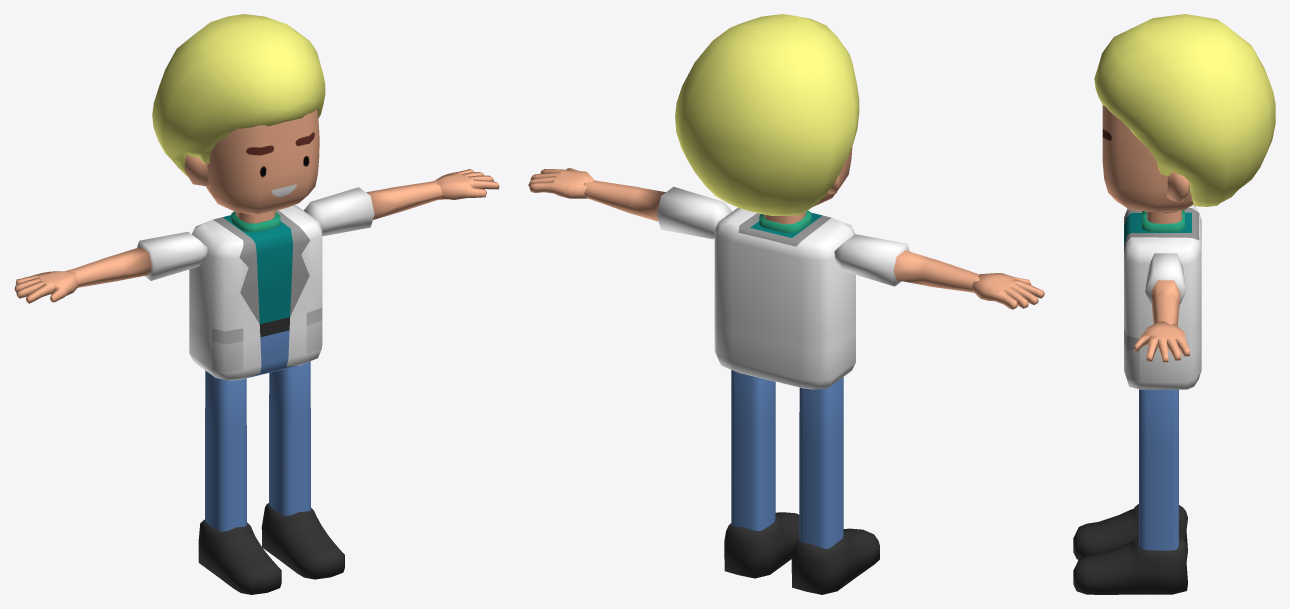
The model's file is NPC_White02_BlondeHair01.gltf.
The picture shows the model from 3 angles, left to right: view 1: azimuth 30°, elevation 25°; view 2: azimuth 150°, elevation 25°; view 3: azimuth 270°, elevation 25°; orthographic projection. The views are drawn at different scales.
Parts seen in each view (by area): view 1: NPC_Corpo_White2_BlondeHair.001; view 2: NPC_Corpo_White2_BlondeHair.001; view 3: NPC_Corpo_White2_BlondeHair.001.
Boxes of the visible parts, x1=… form: NPC_Corpo_White2_BlondeHair.001: x1=14, y1=14, x2=499, y2=594; NPC_Corpo_White2_BlondeHair.001: x1=528, y1=14, x2=1044, y2=594; NPC_Corpo_White2_BlondeHair.001: x1=1073, y1=14, x2=1275, y2=594.
Size of the model in its own units: 2.31 by 2.41 by 0.8168.
1 material, 1 textured.
